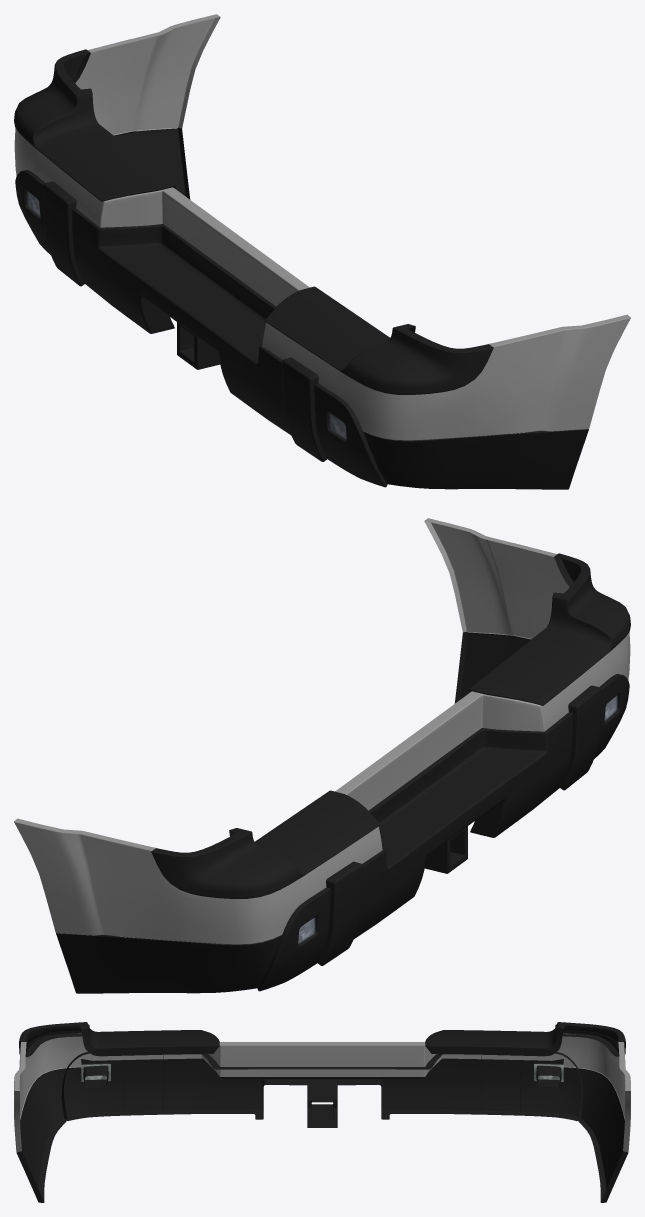
3 views of the same model, one above another, from view 1: azimuth 30°, elevation 25°; view 2: azimuth 150°, elevation 25°; view 3: azimuth 270°, elevation 25° (orthographic). The views are drawn at different scales.
Visible parts, largest first — view 1: U843_9A_561G_C_U843_9A_561G_C_2_D, U843_9A_561G_C_1_DaS_U843_9A_561G_C; view 2: U843_9A_561G_C_U843_9A_561G_C_2_D, U843_9A_561G_C_1_DaS_U843_9A_561G_C; view 3: U843_9A_561G_C_U843_9A_561G_C_2_D, U843_9A_561G_C_1_DaS_U843_9A_561G_C, U843_9A_561G_C_U843_9A_561G_C_3_N.
Boxes of the visible parts, x1,y1,x2,y2 form: U843_9A_561G_C_U843_9A_561G_C_2_D: [14, 49, 588, 489]; U843_9A_561G_C_1_DaS_U843_9A_561G_C: [14, 14, 630, 440]; U843_9A_561G_C_U843_9A_561G_C_2_D: [56, 553, 630, 993]; U843_9A_561G_C_1_DaS_U843_9A_561G_C: [14, 518, 630, 944]; U843_9A_561G_C_U843_9A_561G_C_2_D: [16, 1022, 628, 1202]; U843_9A_561G_C_1_DaS_U843_9A_561G_C: [14, 1033, 630, 1152]; U843_9A_561G_C_U843_9A_561G_C_3_N: [81, 1064, 563, 1081].
Bounding box in the file's own units: 63.76 × 42.35 × 184.
